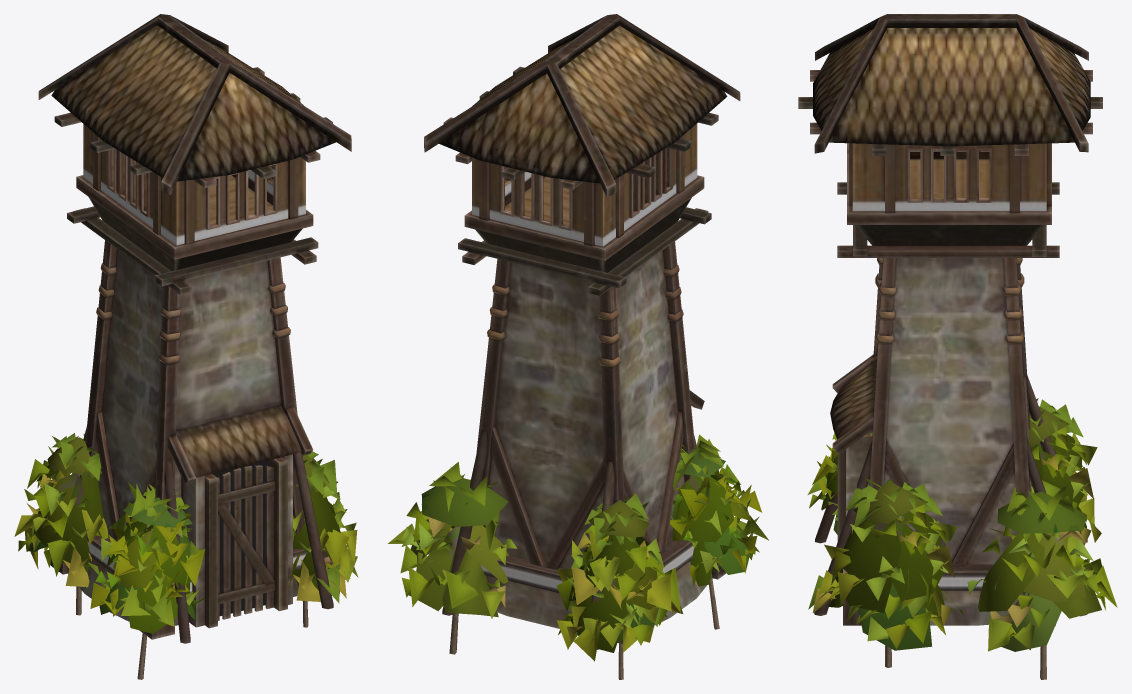
File: 70-watchtower-watch_tower_n_age4.glb
3 renders of one model, left to right at view 1: azimuth 30°, elevation 25°; view 2: azimuth 150°, elevation 25°; view 3: azimuth 270°, elevation 25°, orthographic. The views are drawn at different scales.
Size of the model in its own units: 3.82 by 7.98 by 3.73.
Materials: 5 (5 with a texture image).
